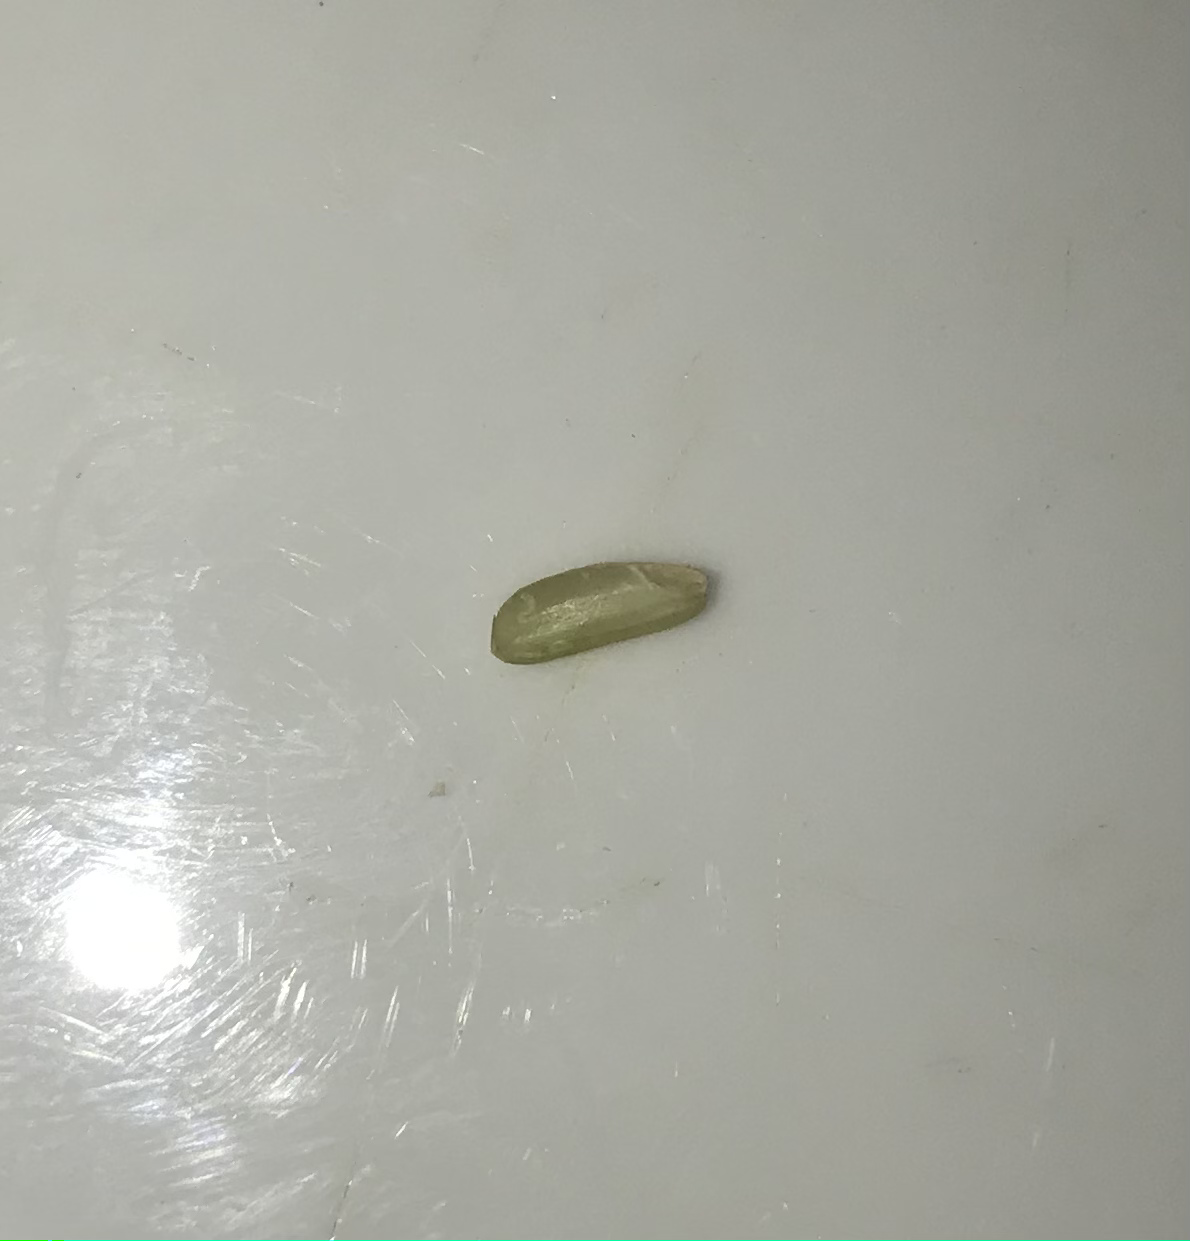Gao Lut Trang: (496, 544, 721, 680)
